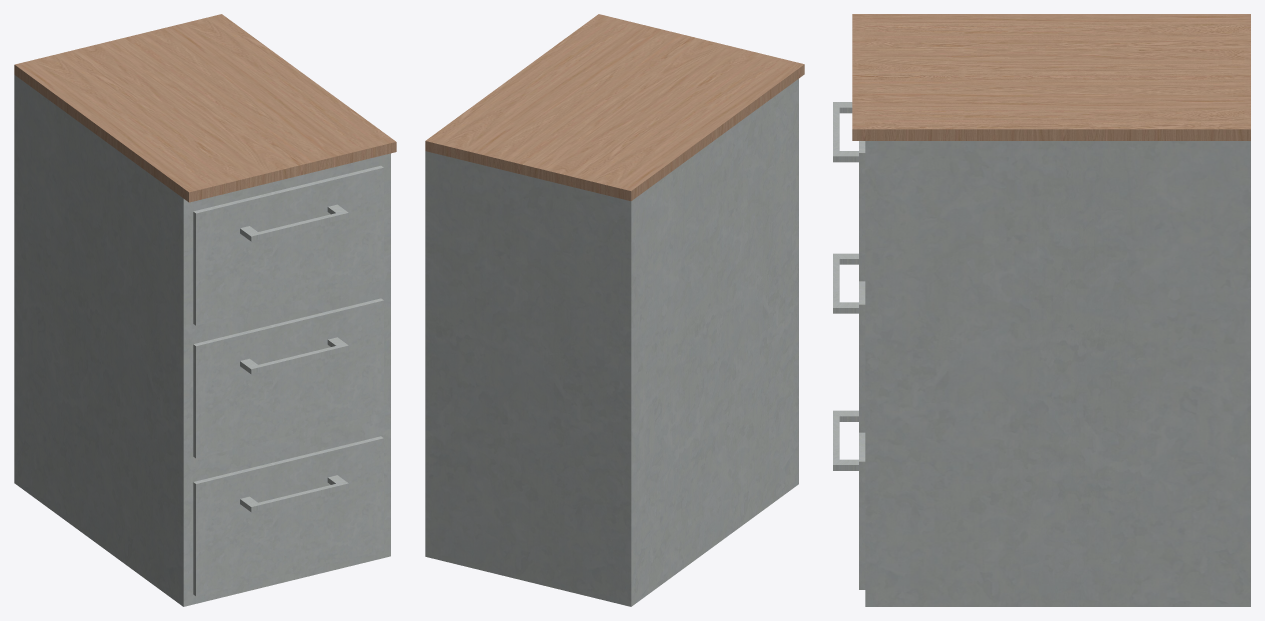
Rendered from CajoneraChica.glb.
The picture shows the model from 3 angles, left to right: view 1: azimuth 30°, elevation 25°; view 2: azimuth 150°, elevation 25°; view 3: azimuth 270°, elevation 25°; orthographic projection. The views are drawn at different scales.
Parts seen in each view (by area): view 1: CajoneraChica, TapaCC, PuertaCC_D, PuertaCC_M, PuertaCC_U, HandleCC_U, HandleCC_D, HandleCC_M; view 2: CajoneraChica, TapaCC; view 3: CajoneraChica, TapaCC, PuertaCC_D, PuertaCC_M, PuertaCC_U, HandleCC_D, HandleCC_M, HandleCC_U.
Part boxes in pixels (<box>): CajoneraChica: <box>14,75,390,606</box>; TapaCC: <box>14,14,396,202</box>; PuertaCC_D: <box>193,436,383,596</box>; PuertaCC_M: <box>193,298,383,458</box>; PuertaCC_U: <box>193,165,383,325</box>; HandleCC_U: <box>240,204,348,241</box>; HandleCC_D: <box>240,475,348,512</box>; HandleCC_M: <box>240,337,348,374</box>; CajoneraChica: <box>425,79,798,606</box>; TapaCC: <box>425,14,804,200</box>; CajoneraChica: <box>865,141,1250,606</box>; TapaCC: <box>852,14,1250,140</box>; PuertaCC_D: <box>859,432,865,589</box>; PuertaCC_M: <box>859,281,865,432</box>; PuertaCC_U: <box>859,141,865,281</box>; HandleCC_D: <box>833,410,858,470</box>; HandleCC_M: <box>833,253,858,313</box>; HandleCC_U: <box>833,102,858,162</box>.
Bounding box in the file's own units: 0.425 × 0.82 × 0.65.
2 materials, 2 textured.
